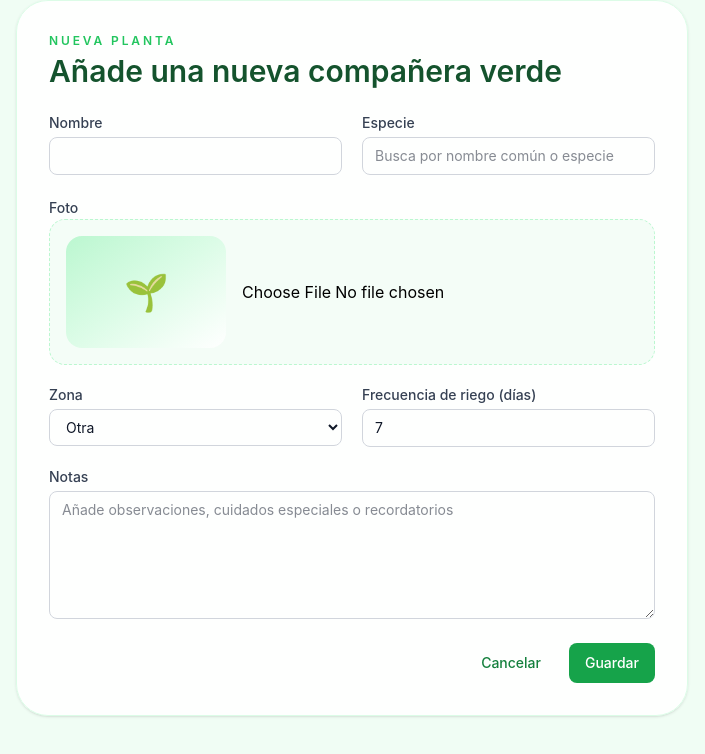
PlantForm › shows validation error when name is empty
Click the button "Guardar".
click(612, 663)  # box 569,643 -> 655,683
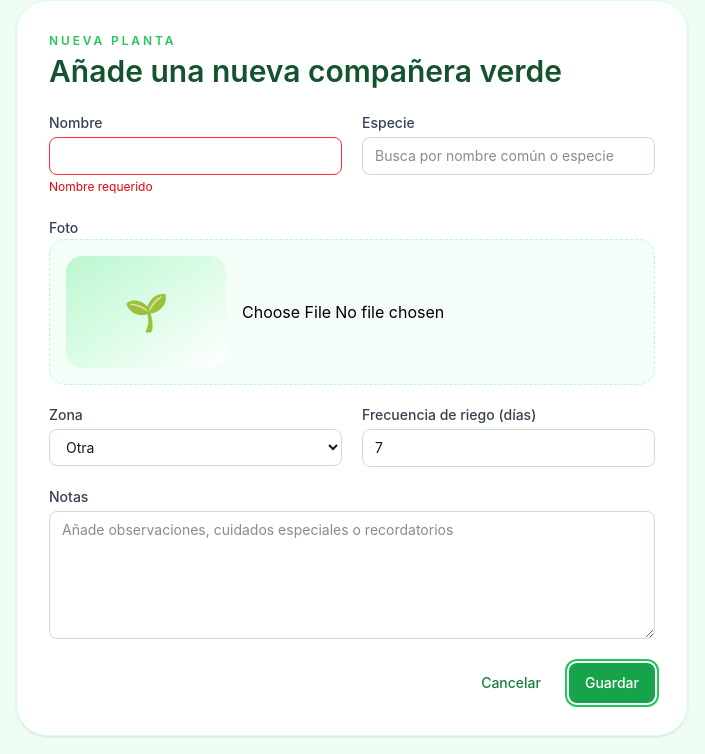
Check: the text "Nombre requerido" is shown, box 49,179 -> 153,194
